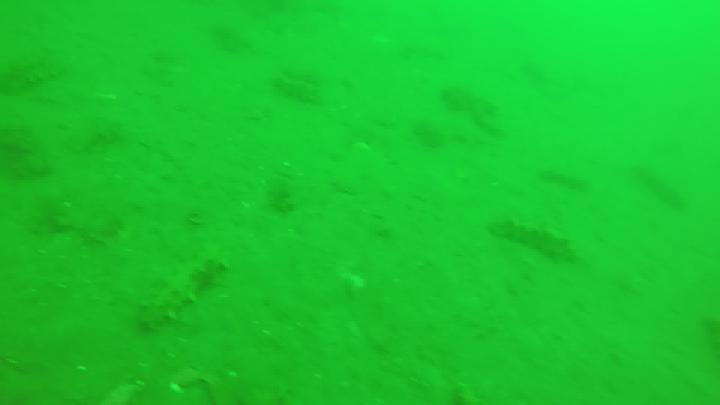holothurian: (144, 254, 228, 329), (497, 216, 583, 269), (1, 39, 71, 86)
